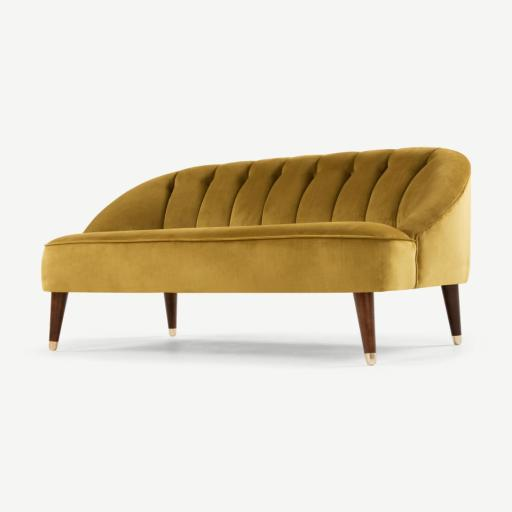back_cushion: (158, 148, 440, 228)
left_arm: (392, 149, 470, 284)
legs: (358, 292, 376, 364), (50, 291, 69, 350), (439, 283, 456, 325), (161, 291, 172, 332)
one-seater: (42, 147, 470, 364)
right_arm: (86, 173, 175, 232)
seat_cushion: (43, 222, 415, 291)
